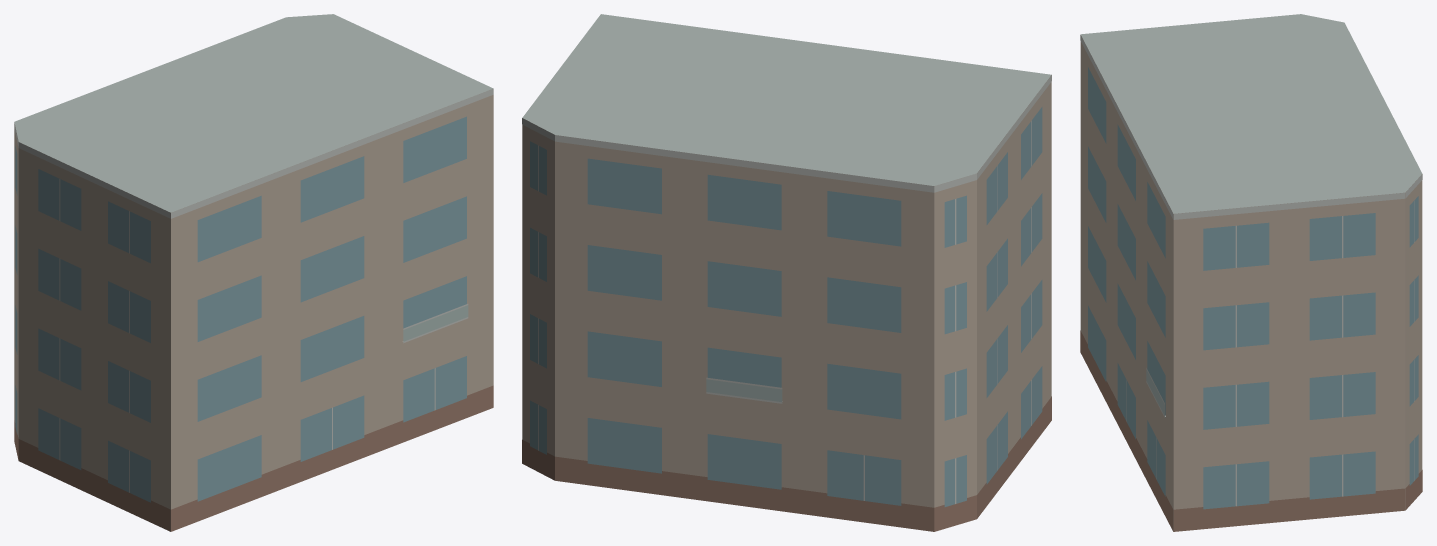
Rendered from survey-upis-32696841.glb.
3 renders of one model, left to right at view 1: azimuth 30°, elevation 25°; view 2: azimuth 150°, elevation 25°; view 3: azimuth 270°, elevation 25°, orthographic. The views are drawn at different scales.
Visible parts, largest first — view 1: survey-upis-32696841.tmp; view 2: survey-upis-32696841.tmp; view 3: survey-upis-32696841.tmp.
Boxes of the visible parts, left/top/right/bottom form: survey-upis-32696841.tmp: left=14, top=14, right=493, bottom=531; survey-upis-32696841.tmp: left=522, top=14, right=1051, bottom=531; survey-upis-32696841.tmp: left=1080, top=14, right=1422, bottom=531.
Bounding box in the file's own units: 17.13 × 12.7 × 12.39.
